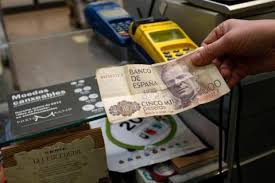billete: (96, 48, 231, 124)
